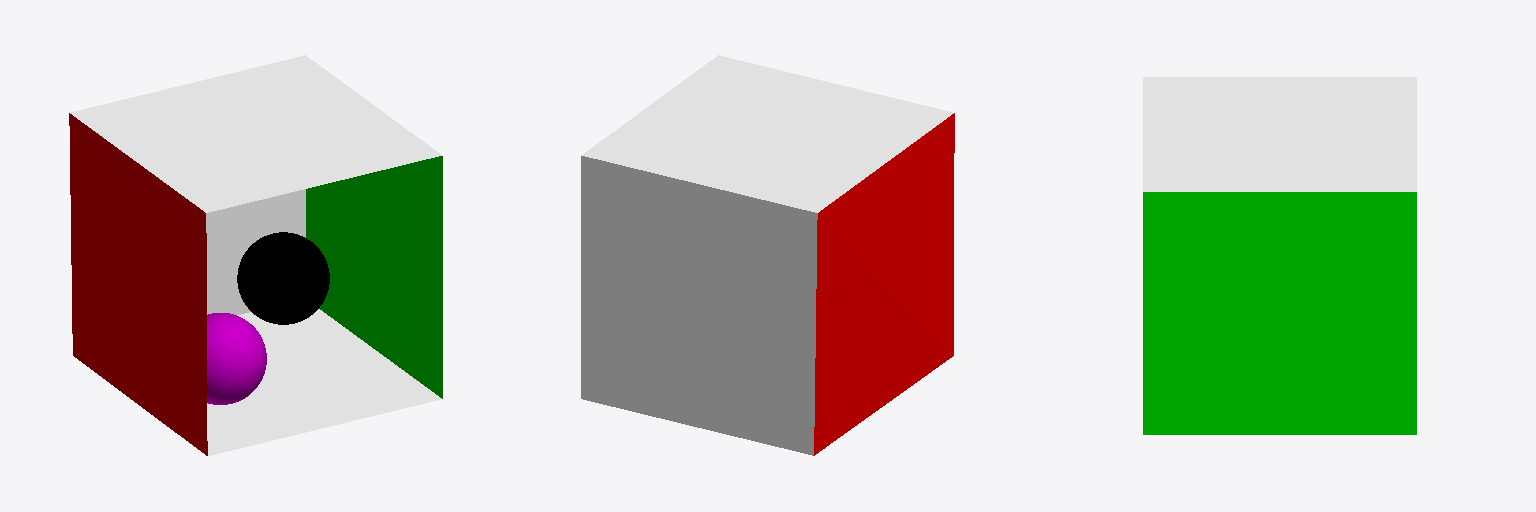
Rendered from CornellBox-TwoSpheres.obj.
3 renders of one model, left to right at view 1: azimuth 30°, elevation 25°; view 2: azimuth 150°, elevation 25°; view 3: azimuth 270°, elevation 25°, orthographic.
Parts seen in each view (by area): view 1: CornellBox-Empty-RG_CornellBox-Empty-RG.002, SphereRight_Cube_Cube.002, SphereLeft_Cube.001_Cube.002; view 2: CornellBox-Empty-RG_CornellBox-Empty-RG.002; view 3: CornellBox-Empty-RG_CornellBox-Empty-RG.002.
Boxes of the visible parts, x1,y1,x2,y2 form: CornellBox-Empty-RG_CornellBox-Empty-RG.002: [69, 55, 442, 455]; SphereRight_Cube_Cube.002: [237, 232, 329, 324]; SphereLeft_Cube.001_Cube.002: [207, 313, 266, 404]; CornellBox-Empty-RG_CornellBox-Empty-RG.002: [581, 55, 954, 455]; CornellBox-Empty-RG_CornellBox-Empty-RG.002: [1143, 77, 1416, 434].
Bounding box in the file's own units: 2.02 × 1.99 × 2.03.